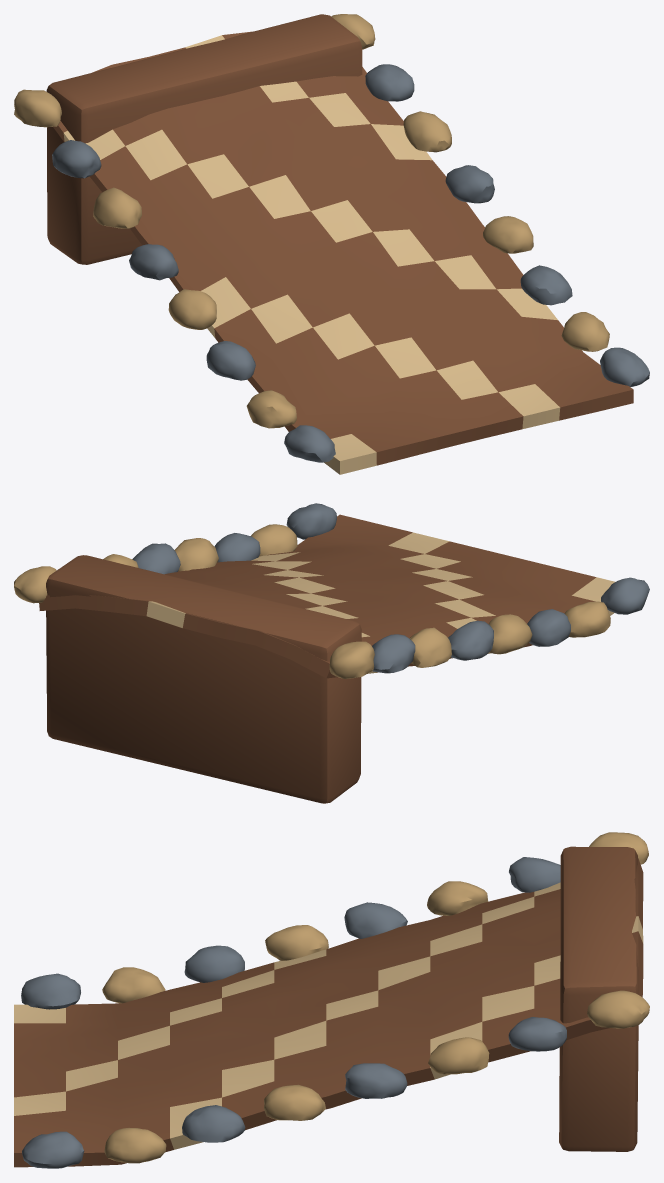
The model's file is deco_ramp_earth.fbx.
The picture shows the model from 3 angles, top to bottom: view 1: azimuth 30°, elevation 25°; view 2: azimuth 150°, elevation 25°; view 3: azimuth 270°, elevation 25°; orthographic projection. The views are drawn at different scales.
Visible parts, largest first — view 1: Ramp_Earth_Surface, Ramp_Earth_Head, Ramp_Earth_Edging; view 2: Ramp_Earth_Head, Ramp_Earth_Surface, Ramp_Earth_Edging; view 3: Ramp_Earth_Surface, Ramp_Earth_Edging, Ramp_Earth_Head.
Part boxes in pixels (left/top/right/bottom): Ramp_Earth_Surface: left=53, top=31, right=633, bottom=474; Ramp_Earth_Head: left=46, top=14, right=362, bottom=264; Ramp_Earth_Edging: left=14, top=14, right=649, bottom=462; Ramp_Earth_Head: left=46, top=555, right=361, bottom=803; Ramp_Earth_Surface: left=39, top=514, right=615, bottom=678; Ramp_Earth_Edging: left=14, top=503, right=649, bottom=678; Ramp_Earth_Surface: left=14, top=858, right=643, bottom=1167; Ramp_Earth_Edging: left=21, top=832, right=649, bottom=1168; Ramp_Earth_Head: left=559, top=846, right=638, bottom=1151.
Size of the model in its own units: 217 by 102 by 326.
